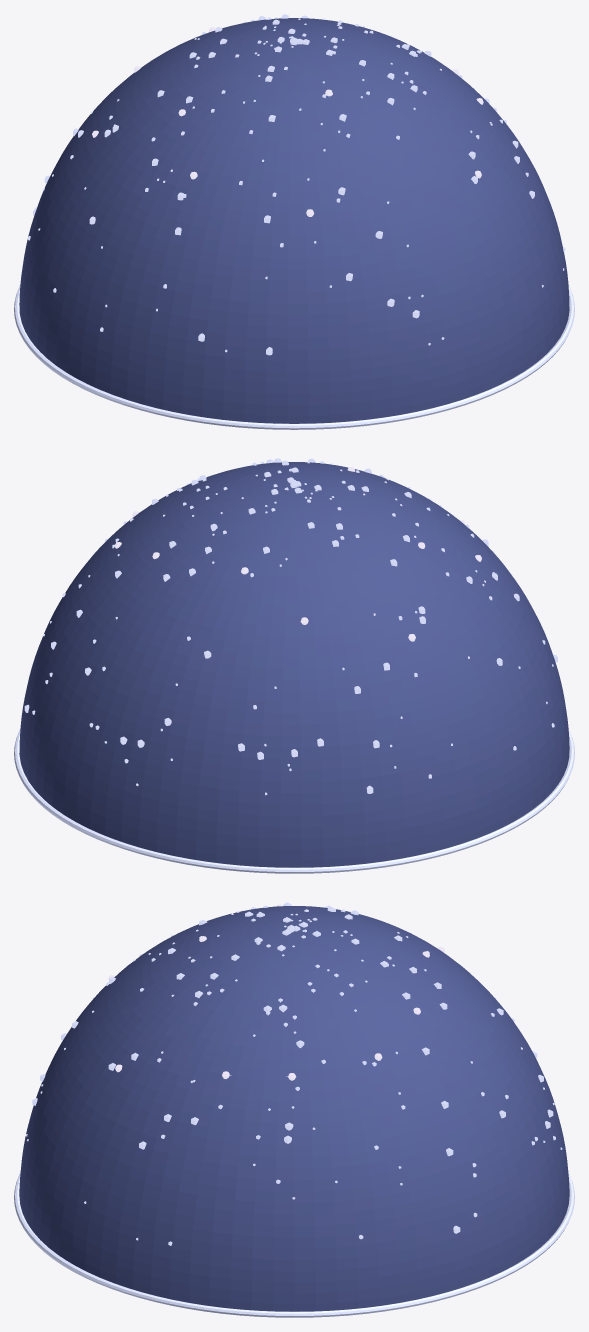
Rendered from zodiac_star_dome.glb.
3 renders of one model, top to bottom at view 1: azimuth 30°, elevation 25°; view 2: azimuth 150°, elevation 25°; view 3: azimuth 270°, elevation 25°, orthographic.
Visible parts, largest first — view 1: zodiac_star_dome; view 2: zodiac_star_dome; view 3: zodiac_star_dome.
Boxes of the visible parts, bbox=[...] form: zodiac_star_dome: bbox=[14, 14, 574, 429]; zodiac_star_dome: bbox=[14, 458, 574, 873]; zodiac_star_dome: bbox=[14, 902, 574, 1317].
Size of the model in its own units: 5.3 by 2.87 by 5.3.
